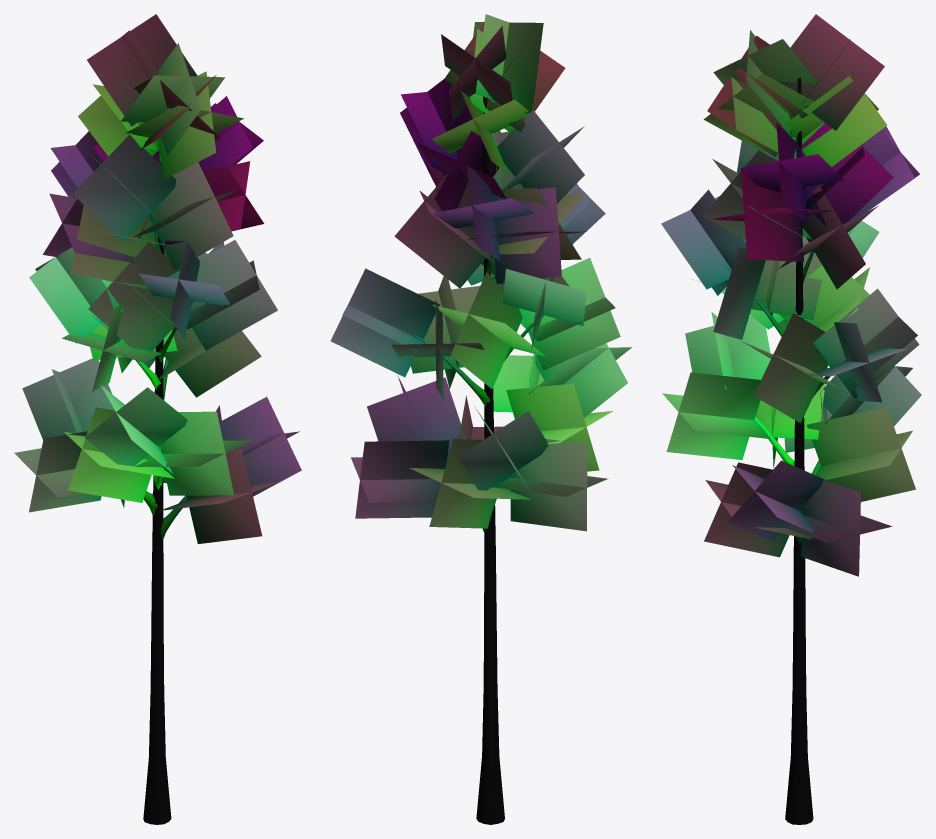
Rendered from M_P5_Tree_2.fbx.
3 views of the same model, side by side, from view 1: azimuth 30°, elevation 25°; view 2: azimuth 150°, elevation 25°; view 3: azimuth 270°, elevation 25° (orthographic). The views are drawn at different scales.
Visible parts, largest first — view 1: Tree_2; view 2: Tree_2; view 3: Tree_2.
Boxes of the visible parts, x1,y1,x2,y2 form: Tree_2: (14, 14, 301, 824); Tree_2: (330, 14, 632, 824); Tree_2: (661, 14, 921, 824).
Bounding box in the file's own units: 270 × 835 × 248.
